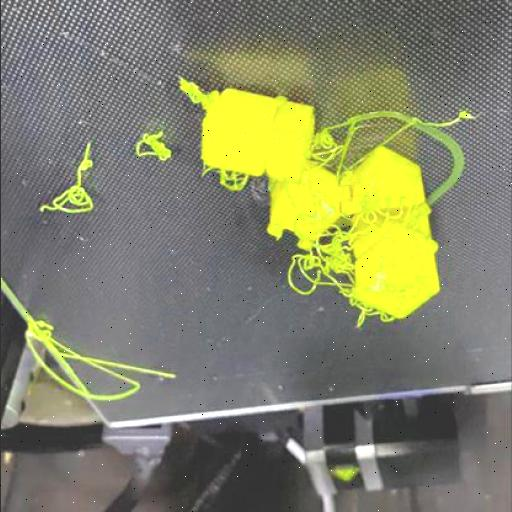spaghetti: (288, 198, 436, 330), (24, 320, 174, 400), (38, 142, 98, 217), (308, 130, 344, 174)
